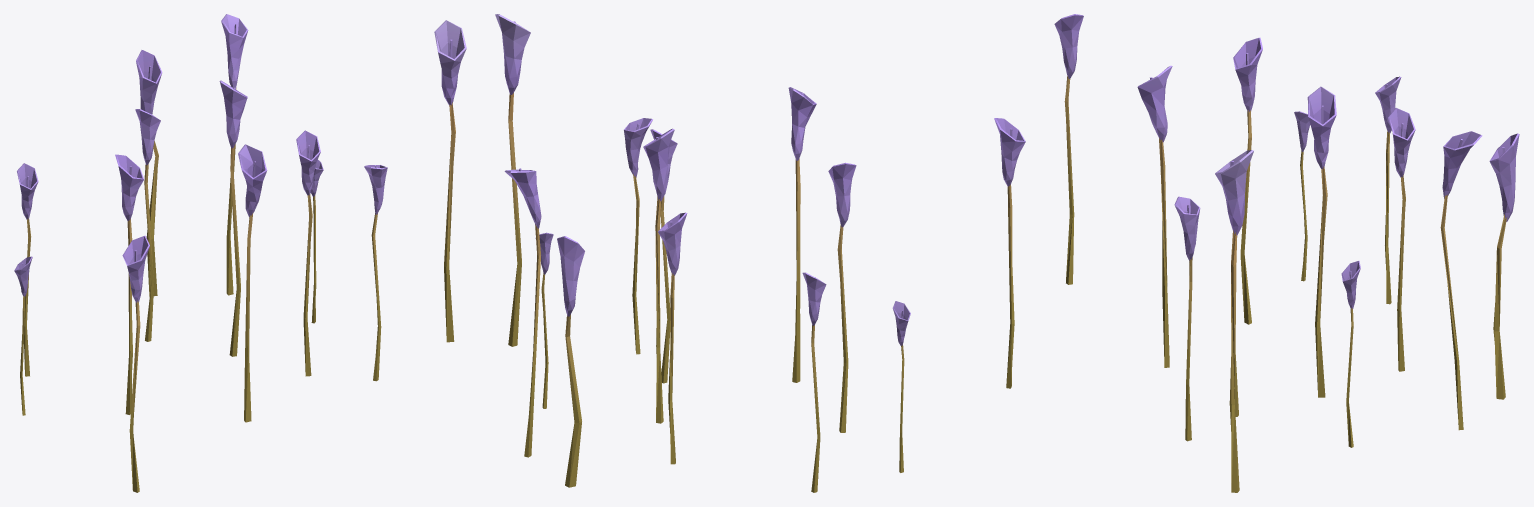
The model's file is flower_lavender.glb.
3 views of the same model, side by side, from view 1: azimuth 30°, elevation 25°; view 2: azimuth 150°, elevation 25°; view 3: azimuth 270°, elevation 25° (orthographic). The views are drawn at different scales.
Parts seen in each view (by area): view 1: Flower 5_2_C; view 2: Flower 5_2_C; view 3: Flower 5_2_C.
Boxes of the visible parts, box(x1,y1,x2,y2) form: Flower 5_2_C: box(14, 14, 466, 492); Flower 5_2_C: box(495, 14, 1025, 492); Flower 5_2_C: box(1054, 14, 1519, 492).
Size of the model in its own units: 0.5006 by 0.36 by 0.4419.
Materials: 1 (1 with a texture image).
